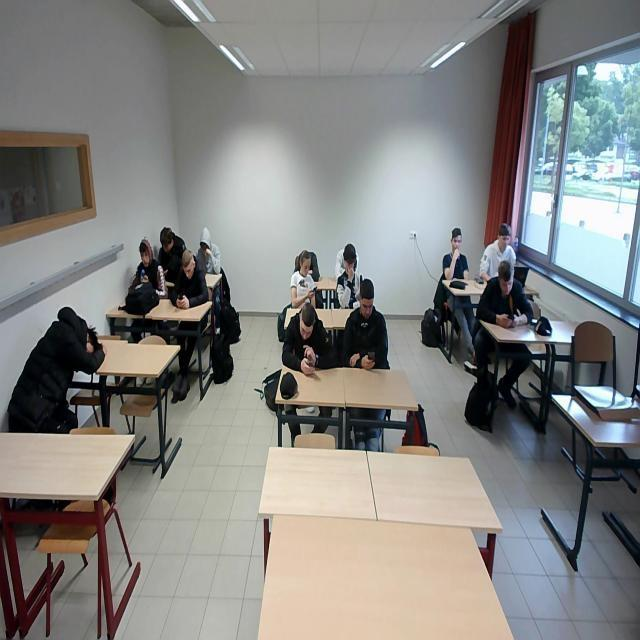phone_use: (341, 278, 387, 367), (281, 302, 335, 373), (476, 260, 531, 325), (169, 249, 207, 306), (290, 249, 317, 306)
